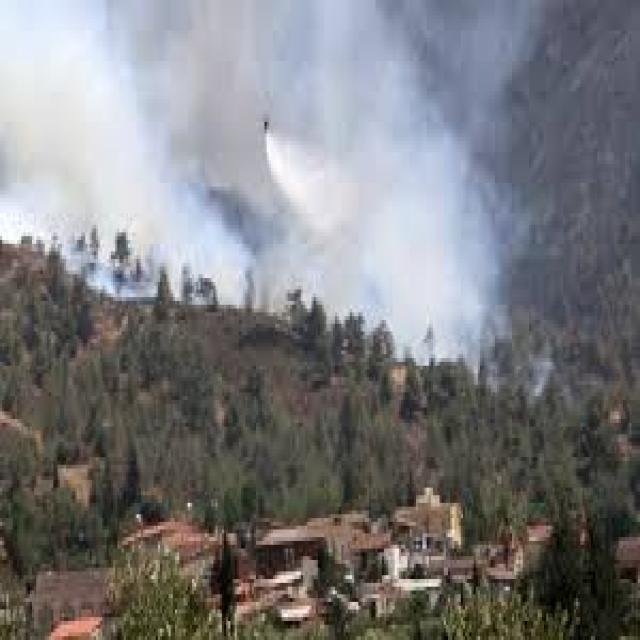Smoke: (0, 0, 476, 347)
